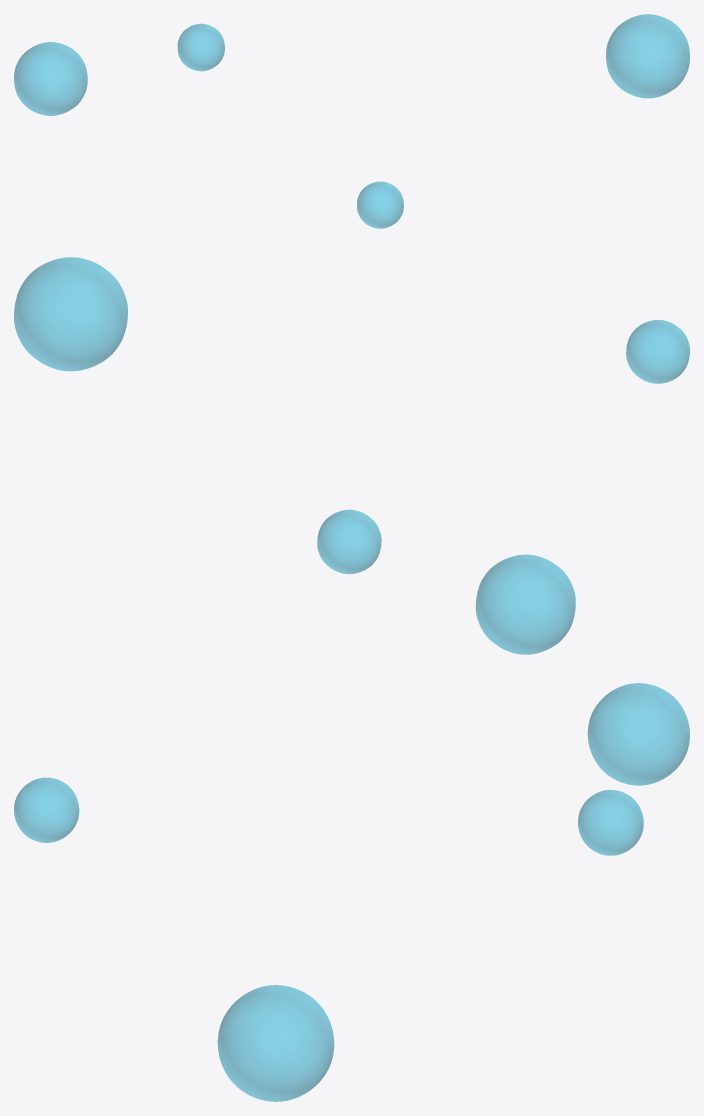
Rendered from waterSky001_02.fbx.
The picture shows the model from 3 angles, top to bottom: view 1: azimuth 30°, elevation 25°; view 2: azimuth 150°, elevation 25°; view 3: azimuth 270°, elevation 25°; orthographic projection. The views are drawn at different scales.
Parts seen in each view (by area): view 1: waterSky001.002; view 2: waterSky001.002; view 3: waterSky001.002.
Boxes of the visible parts, x1,y1,x2,y2 form: waterSky001.002: (14,14,689,228); waterSky001.002: (14,257,689,654); waterSky001.002: (14,683,689,1101).
Size of the model in its own units: 145 by 19.94 by 115.
